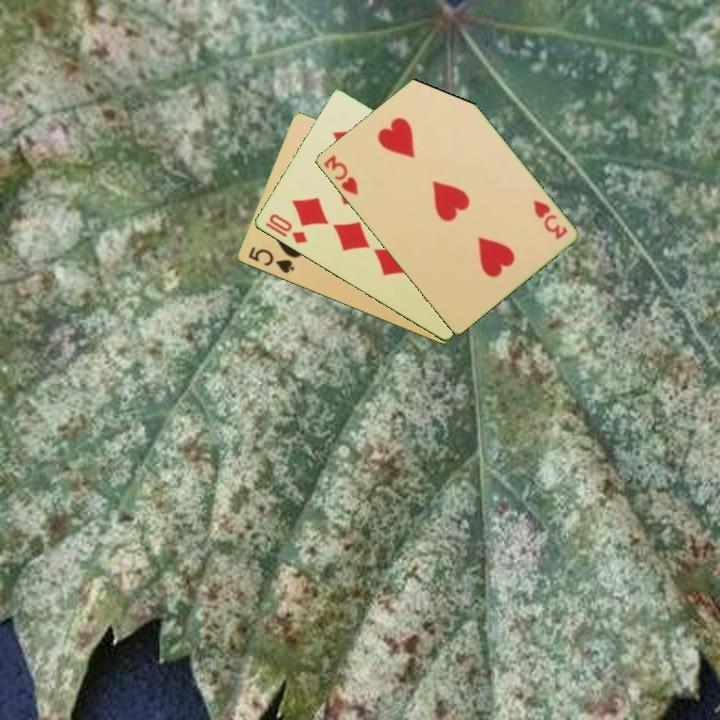10d: (265, 210, 310, 247)
3h: (319, 151, 361, 198), (529, 196, 570, 243)
5s: (244, 243, 297, 276)
